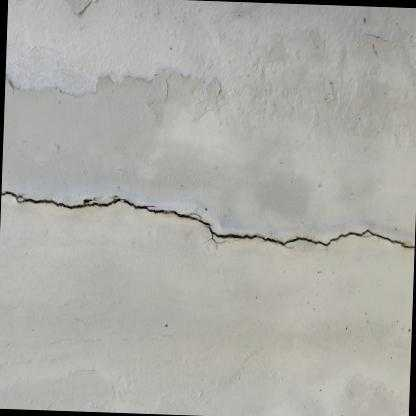crack: (0, 190, 415, 249)
